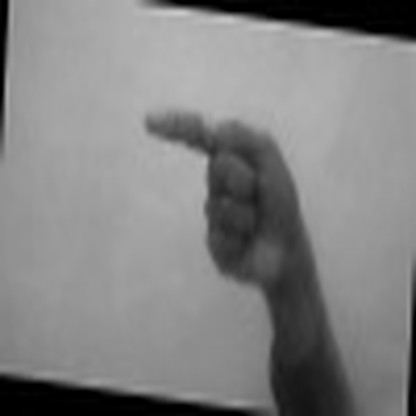g: (97, 107, 344, 287)
